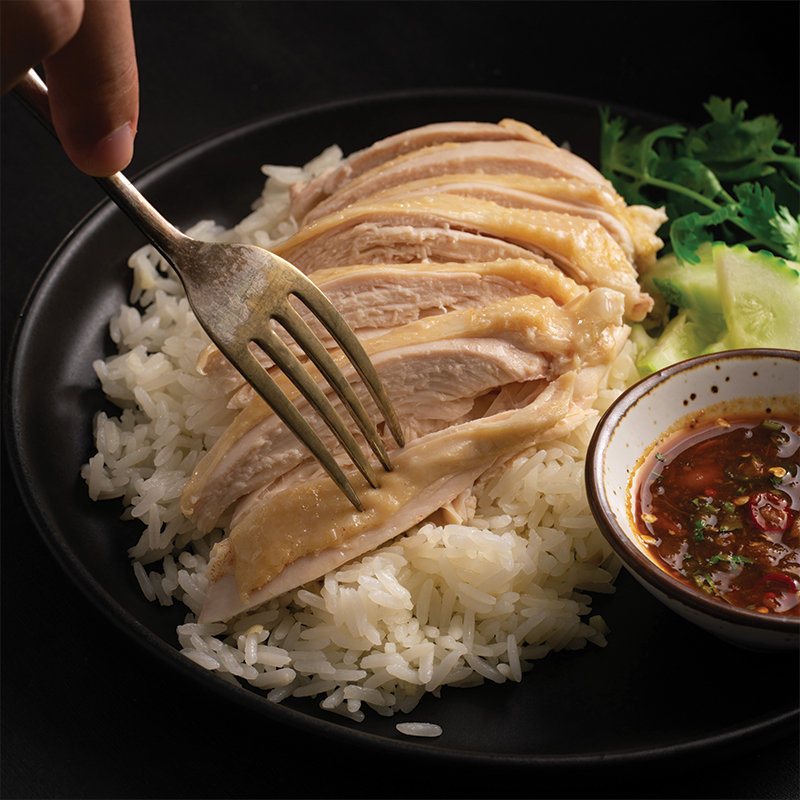Steamed Chicken Rice: (122, 120, 627, 682)
